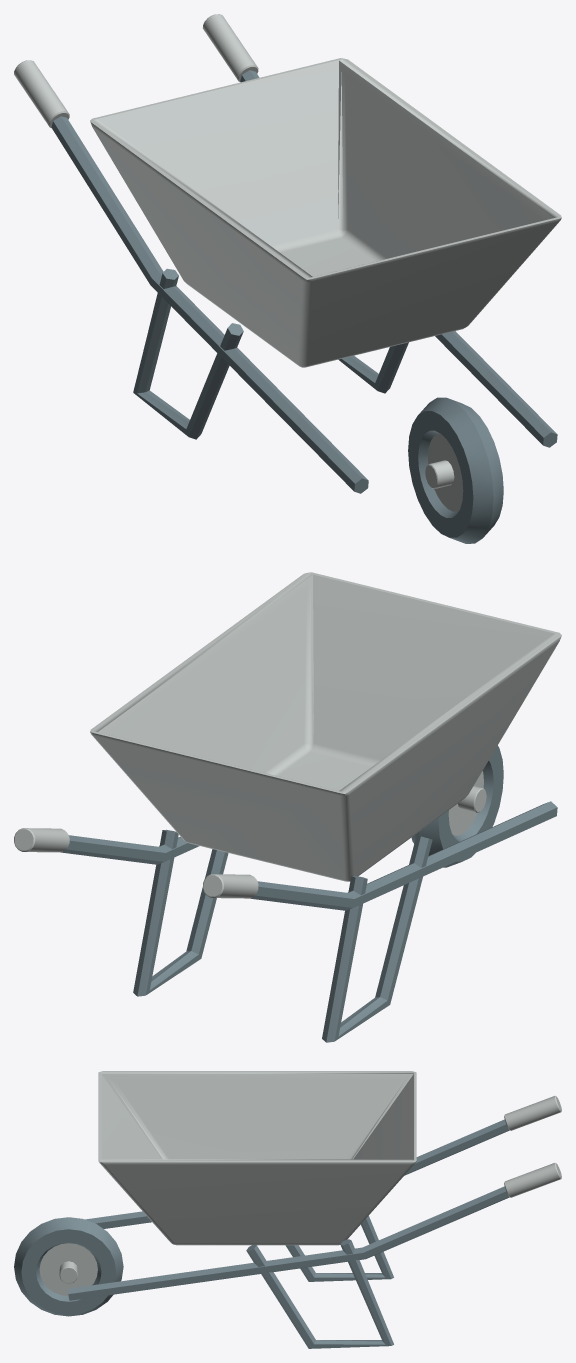
Rendered from wheelbarrow.glb.
The picture shows the model from 3 angles, top to bottom: view 1: azimuth 30°, elevation 25°; view 2: azimuth 150°, elevation 25°; view 3: azimuth 270°, elevation 25°; orthographic projection. The views are drawn at different scales.
Parts seen in each view (by area): view 1: open_basin, frame_handle, front_wheel_tire, rear_leg, frame_handle.001, handle_grip.001, handle_grip, front_wheel_wheel_face, rear_leg.001, front_wheel_hub; view 2: open_basin, rear_leg, frame_handle, rear_leg.001, front_wheel_tire, frame_handle.001, handle_grip, handle_grip.001, front_wheel_wheel_face; view 3: open_basin, front_wheel_tire, frame_handle.001, rear_leg.001, frame_handle, front_wheel_wheel_face, rear_leg, handle_grip, handle_grip.001, front_wheel_hub.
Part boxes in pixels (x1,y1,x2,y2): open_basin: [90, 58, 561, 367]; frame_handle: [51, 116, 368, 493]; front_wheel_tire: [408, 397, 503, 543]; rear_leg: [133, 268, 243, 439]; frame_handle.001: [240, 70, 557, 447]; handle_grip.001: [202, 14, 258, 81]; handle_grip: [14, 60, 69, 127]; front_wheel_wheel_face: [428, 433, 463, 511]; rear_leg.001: [338, 342, 408, 393]; front_wheel_hub: [425, 460, 454, 488]; open_basin: [90, 572, 561, 881]; rear_leg: [322, 835, 432, 1042]; frame_handle: [250, 801, 557, 910]; rear_leg.001: [133, 829, 228, 996]; front_wheel_tire: [411, 745, 503, 867]; frame_handle.001: [61, 835, 199, 864]; handle_grip: [202, 874, 258, 898]; handle_grip.001: [14, 828, 69, 852]; front_wheel_wheel_face: [448, 771, 483, 835]; open_basin: [98, 1071, 416, 1245]; front_wheel_tire: [14, 1217, 123, 1316]; frame_handle.001: [68, 1186, 509, 1300]; rear_leg.001: [246, 1239, 393, 1348]; frame_handle: [85, 1119, 509, 1228]; front_wheel_wheel_face: [39, 1243, 97, 1295]; rear_leg: [285, 1216, 393, 1281]; handle_grip: [504, 1096, 561, 1130]; handle_grip.001: [504, 1163, 561, 1197]; front_wheel_hub: [59, 1261, 77, 1283].
Bounding box in the file's own units: 0.7095 × 0.725 × 1.8.
